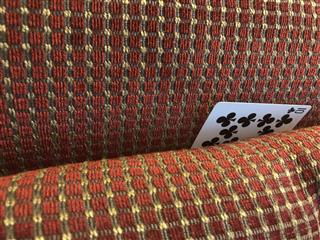TenOfClubs: (190, 100, 312, 148)
